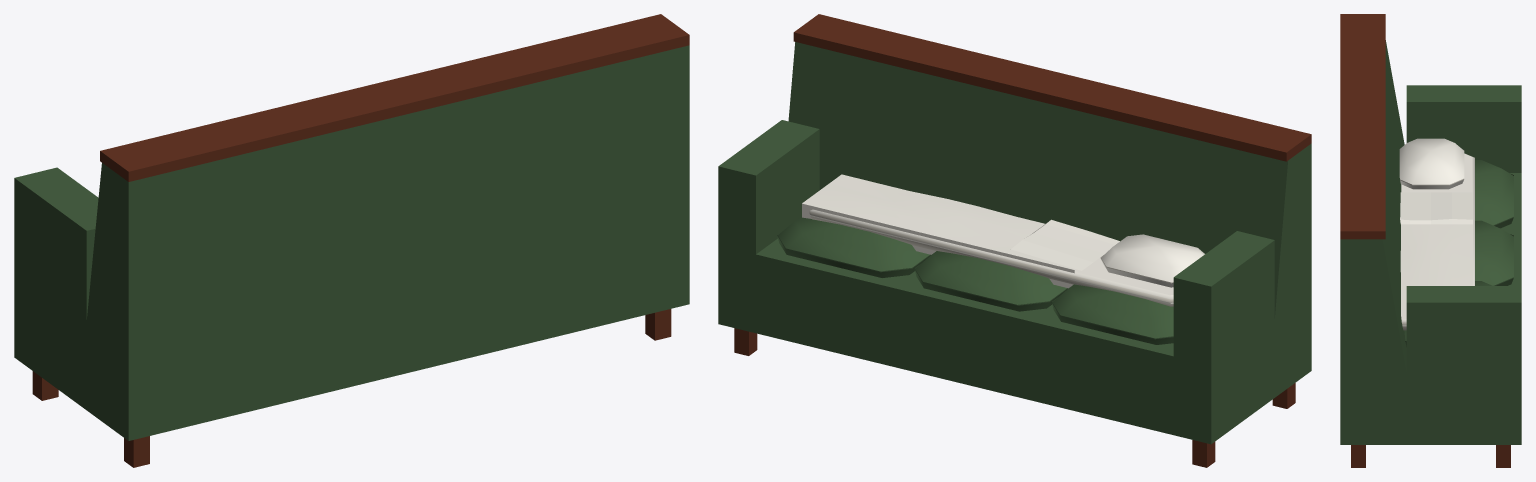
The picture shows the model from 3 angles, left to right: view 1: azimuth 30°, elevation 25°; view 2: azimuth 150°, elevation 25°; view 3: azimuth 270°, elevation 25°; orthographic projection. The views are drawn at different scales.
Parts seen in each view (by area): view 1: parametric-variant-sofa-1st-2d432837af70ca1c2f77; view 2: parametric-variant-sofa-1st-2d432837af70ca1c2f77; view 3: parametric-variant-sofa-1st-2d432837af70ca1c2f77.
Boxes of the visible parts, bbox=[...] form: parametric-variant-sofa-1st-2d432837af70ca1c2f77: bbox=[14, 14, 689, 467]; parametric-variant-sofa-1st-2d432837af70ca1c2f77: bbox=[718, 14, 1311, 467]; parametric-variant-sofa-1st-2d432837af70ca1c2f77: bbox=[1340, 14, 1521, 467].
Size of the model in its own units: 1.7 by 0.88 by 0.6.
